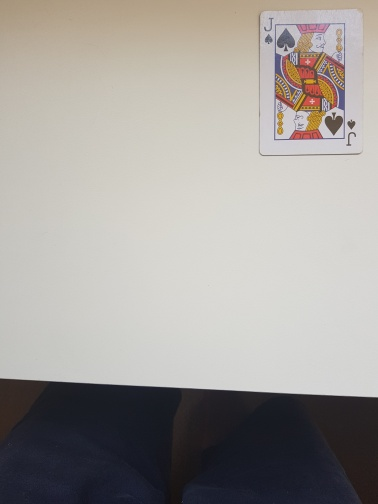jack: (256, 8, 365, 156)
